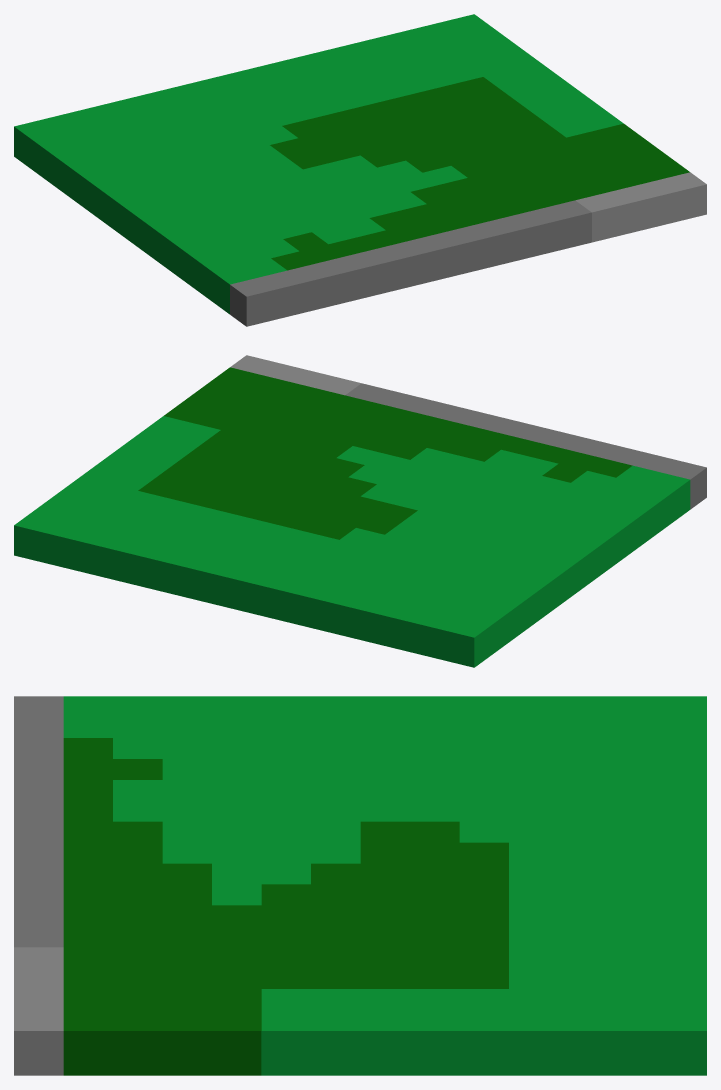
The model's file is obj_curb3.obj.
The picture shows the model from 3 angles, top to bottom: view 1: azimuth 30°, elevation 25°; view 2: azimuth 150°, elevation 25°; view 3: azimuth 270°, elevation 25°; orthographic projection. The views are drawn at different scales.
Size of the model in its own units: 1.6 by 0.1 by 1.4.
Materials: 1 (1 with a texture image).
